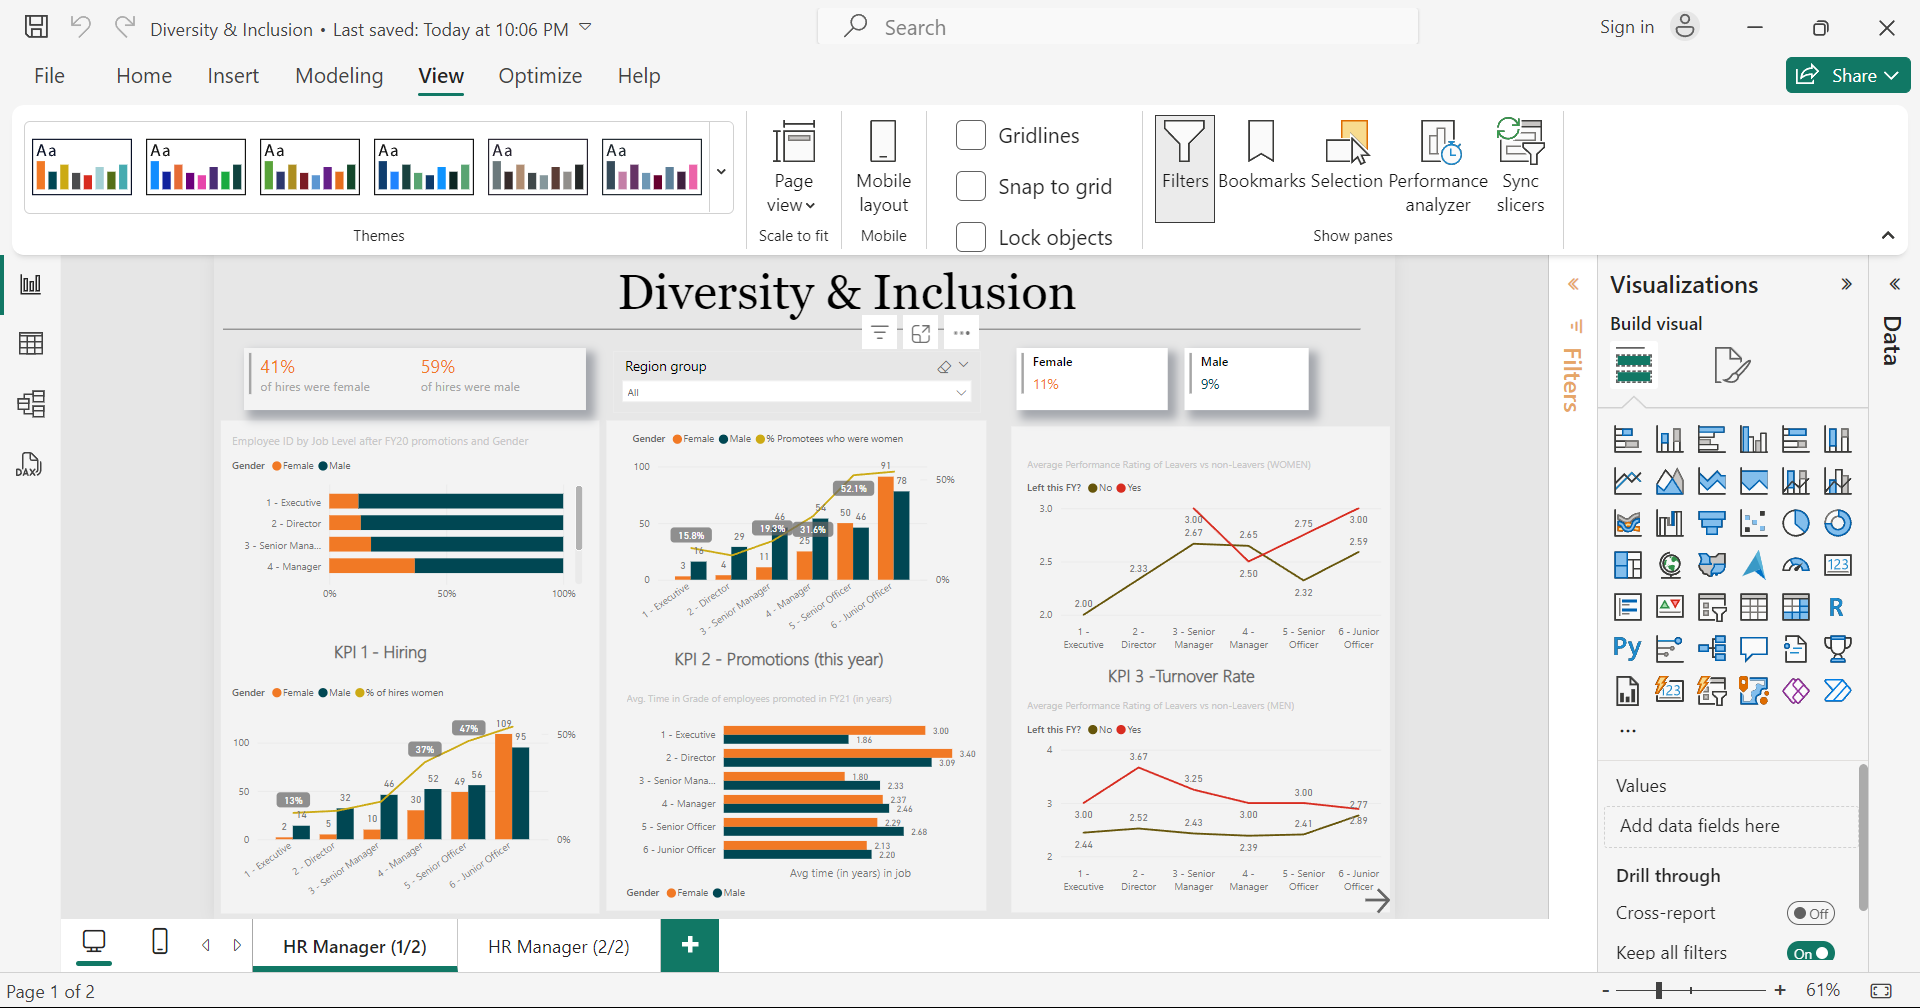

The dashboard page shown, as its layout file describes it:
{"tool":"powerbi","page":{"name":"HR Manager (1/2)","canvas":[1280,720],"ordinal":0},"visuals":[{"type":"textbox","box":[432.9,4.7,520.5,75],"z":0},{"type":"basicShape","box":[0,60.8,1253,40.5],"z":1000},{"type":"basicShape","box":[3.1,173.5,418.9,545.5],"z":2000},{"type":"hundredPercentStackedBarChart","fields":{"Series":["HR Manager.Gender"],"Y":["CountNonNull(HR Manager.Employee ID)"],"Category":["HR Manager.Job Level after FY20 promotions"]},"box":[14.5,193.9,389.7,190],"z":3000},{"type":"multiRowCard","fields":{"Values":["HR Manager.% of hires women","HR Manager.% of hires men"]},"box":[32.8,101.6,370.4,67.2],"z":4000},{"type":"lineClusteredColumnComboChart","fields":{"Category":["HR Manager.Job Level after FY20 promotions"],"Series":["HR Manager.Gender"],"Y":["CountNonNull(HR Manager.Employee ID)"],"Y2":["HR Manager.% of hires women"]},"box":[14.5,455.3,382.9,250.8],"z":5000},{"type":"textbox","box":[125,411.1,164.1,39.1],"z":6000},{"type":"basicShape","box":[422,173.5,420.4,542.4],"z":8000},{"type":"textbox","box":[493.9,418.9,314.2,34.4],"z":9000},{"type":"lineClusteredColumnComboChart","fields":{"Y":["CountNonNull(HR Manager.Employee ID)"],"Series":["HR Manager.Gender"],"Y2":["HR Manager.% Promotees who were women"],"Category":["HR Manager.Job Level after FY21 promotions"]},"box":[448.6,181.3,359.5,242.3],"z":12000},{"type":"basicShape","box":[861.2,181.3,418.9,537.7],"z":16000},{"type":"textbox","box":[964.4,437.6,315.7,34.4],"z":18000},{"type":"clusteredBarChart","title":"Avg. Time in Grade of employees promoted in FY21 (in years)","fields":{"Category":["HR Manager.Job Level after FY20 promotions"],"Series":["HR Manager.Gender"],"Y":["Avg(HR Manager.Time in Job Level @01.07.2020)"]},"box":[441.8,473.6,389.7,236.3],"z":19000},{"type":"lineChart","title":"Average Performance Rating of Leavers vs non-Leavers (WOMEN)","fields":{"Category":["HR Manager.Job Level after FY20 promotions"],"Y":["Avg(HR Manager.FY19 Performance Rating)"],"Series":["HR Manager.FY20 leaver?"]},"box":[876.8,218.8,397,217.3],"z":20000},{"type":"lineChart","title":"Average Performance Rating of Leavers vs non-Leavers (MEN)","fields":{"Category":["HR Manager.Job Level after FY20 promotions"],"Y":["Avg(HR Manager.FY19 Performance Rating)"],"Series":["HR Manager.FY20 leaver?"]},"box":[876.8,481.4,397,217.3],"z":21000},{"type":"multiRowCard","fields":{"Values":["HR Manager.Gender","HR Manager.% Turnover"]},"box":[870.6,101.6,164.1,67.2],"z":22000},{"type":"multiRowCard","fields":{"Values":["HR Manager.Gender","HR Manager.% Turnover"]},"box":[1051.9,101.6,134.4,67.2],"z":23000},{"type":"slicer","fields":{"Values":["HR Manager.Broad region group: nationality 1"]},"box":[432.9,104.7,398.6,65.6],"z":27000},{"type":"actionButton","box":[1243.1,679.1,36.9,40.2],"z":29000},{"type":"textbox","box":[7.7,689.7,397.4,29.9],"z":30000}]}

Visuals, with their boxes on the page's 1280x720 design canvas (x1, y1, x2, y2). These are canvas units, not pixel positions in the 1920x1008 screenshot, which may show the page scaled, cropped or inside an application window:
textbox: 433,5,953,80
basicShape: 0,61,1253,101
basicShape: 3,174,422,719
hundredPercentStackedBarChart - HR Manager.Gender x CountNonNull(HR Manager.Employee ID): 14,194,404,384
multiRowCard - HR Manager.% of hires women x HR Manager.% of hires men: 33,102,403,169
lineClusteredColumnComboChart - HR Manager.Job Level after FY20 promotions x HR Manager.Gender: 14,455,397,706
textbox: 125,411,289,450
basicShape: 422,174,842,716
textbox: 494,419,808,453
lineClusteredColumnComboChart - CountNonNull(HR Manager.Employee ID) x HR Manager.Gender: 449,181,808,424
basicShape: 861,181,1280,719
textbox: 964,438,1280,472
"Avg. Time in Grade of employees promoted in FY21 (in years)" clusteredBarChart: 442,474,832,710
"Average Performance Rating of Leavers vs non-Leavers (WOMEN)" lineChart: 877,219,1274,436
"Average Performance Rating of Leavers vs non-Leavers (MEN)" lineChart: 877,481,1274,699
multiRowCard - HR Manager.Gender x HR Manager.% Turnover: 871,102,1035,169
multiRowCard - HR Manager.Gender x HR Manager.% Turnover: 1052,102,1186,169
slicer - HR Manager.Broad region group: nationality 1: 433,105,832,170
actionButton: 1243,679,1280,719
textbox: 8,690,405,720
